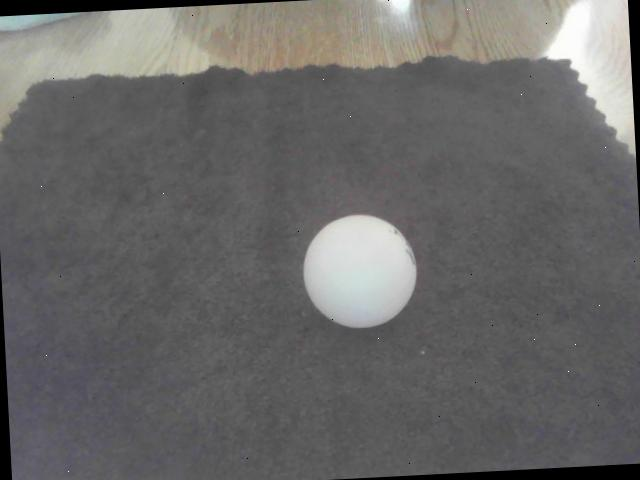ball: (300, 215, 420, 330)
